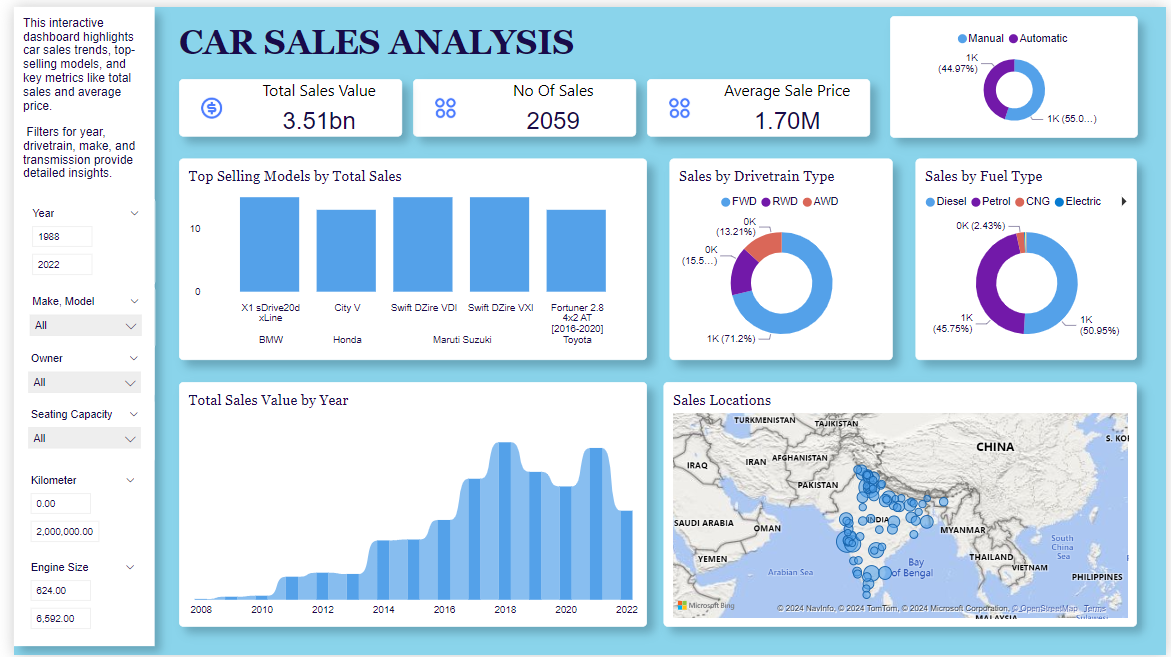

The page's visual inventory and layout, read from the dashboard file:
{"tool":"powerbi","page":{"name":"Page 1","canvas":[1280,720],"ordinal":0},"visuals":[{"type":"shape","box":[0,0,156.3,710],"z":0,"group":"g5"},{"type":"shape","box":[184,80,248,64],"z":0,"group":"g4"},{"type":"shape","box":[444,80,248,64],"z":0,"group":"g3"},{"type":"shape","box":[704,80,248,64],"z":0,"group":"g6"},{"type":"slicer","fields":{"Values":["car.Year"]},"box":[1.1,212,155.6,97.8],"z":0,"group":"g1"},{"type":"ribbonChart","title":"Total Sales Value by Year","fields":{"Category":["car.Year"],"Y":["Sum(car.Price)"]},"box":[184,416,520,272],"z":0},{"type":"slicer","fields":{"Values":["car.Kilometer"]},"box":[0,508.1,152.3,89.2],"z":0,"group":"g2"},{"type":"card","title":"Total Sales Value","fields":{"Values":["Sum(car.Price)"]},"box":[256,80,168,64],"z":1000,"group":"g4"},{"type":"card","title":"No Of Sales","fields":{"Values":["car.Total Rows"]},"box":[516,80,168,64],"z":1000,"group":"g3"},{"type":"card","title":"Average Sale Price","fields":{"Values":["Avg(car.Price)"]},"box":[776,80,168,64],"z":1000,"group":"g6"},{"type":"columnChart","title":"Top Selling Models by Total Sales","fields":{"Category":["car.Make","car.Model"],"Y":["car.Total Rows"]},"box":[184,168,520,224],"z":1000},{"type":"group","id":"g1","title":"Slicers","box":[0,212,156.7,294.7],"z":1000,"group":"g5"},{"type":"slicer","fields":{"Values":["car.Make","car.Model"]},"box":[1.1,310.9,155.6,70],"z":1000,"group":"g1"},{"type":"slicer","fields":{"Values":["car.Engine Size"]},"box":[0,604.7,152.2,100],"z":1000,"group":"g2"},{"type":"image","box":[192,88,56,48],"z":2000,"group":"g4"},{"type":"image","box":[452,88,56,48],"z":2000,"group":"g3"},{"type":"image","box":[712,88,56,48],"z":2000,"group":"g6"},{"type":"donutChart","title":"Sales by Drivetrain Type","fields":{"Category":["car.Drivetrain"],"Y":["car.Total Rows"]},"box":[728,168,248,224],"z":2000},{"type":"slicer","fields":{"Values":["car.Owner"]},"box":[0.4,374.1,156.3,61.6],"z":2000,"group":"g1"},{"type":"group","id":"g2","title":"Slicers","box":[0,508.1,152.3,196.6],"z":2000,"group":"g7"},{"type":"textbox","box":[10.3,10,136,202],"z":3000,"group":"g5"},{"type":"group","id":"g3","title":"Header 3","box":[444,80,240,66],"z":3000},{"type":"slicer","fields":{"Values":["car.Seating Capacity"]},"box":[0,434.7,156.3,72],"z":3000,"group":"g1"},{"type":"group","id":"g4","title":"Header 1","box":[184,80,248,64],"z":4000},{"type":"group","id":"g5","title":"Side Bar","box":[0,0,156.7,710],"z":5000},{"type":"textbox","box":[184,18,592,58],"z":6000},{"type":"group","id":"g6","title":"Header 3","box":[704,80,240,64],"z":7000},{"type":"donutChart","title":"Sales by Drivetrain Type","fields":{"Category":["car.Transmission"],"Y":["car.Total Rows"]},"box":[972.5,10,275,135],"z":8000},{"type":"map","title":"Sales Locations","fields":{"Category":["car.Location"],"Size":["car.Total Rows"]},"box":[722,416,526,272],"z":9000},{"type":"donutChart","title":"Sales by Fuel Type","fields":{"Category":["car.Fuel Type"],"Y":["car.Total Rows"]},"box":[1002,168,246,224],"z":10000},{"type":"group","id":"g7","title":"Side Bar","box":[0,508.1,152.3,196.6],"z":11000}]}

Visuals, with their boxes in screenshot pixels (x1, y1, x2, y2), scaled from the page's 1280x720 canvas onto the 1171x657 screenshot:
shape: bbox=(0, 0, 143, 648)
shape: bbox=(168, 73, 395, 131)
shape: bbox=(406, 73, 633, 131)
shape: bbox=(644, 73, 871, 131)
slicer - car.Year: bbox=(1, 193, 143, 283)
"Total Sales Value by Year" ribbonChart: bbox=(168, 380, 644, 628)
slicer - car.Kilometer: bbox=(0, 464, 139, 545)
"Total Sales Value" card: bbox=(234, 73, 388, 131)
"No Of Sales" card: bbox=(472, 73, 626, 131)
"Average Sale Price" card: bbox=(710, 73, 864, 131)
"Top Selling Models by Total Sales" columnChart: bbox=(168, 153, 644, 358)
"Slicers" group: bbox=(0, 193, 143, 462)
slicer - car.Make x car.Model: bbox=(1, 284, 143, 348)
slicer - car.Engine Size: bbox=(0, 552, 139, 643)
image: bbox=(176, 80, 227, 124)
image: bbox=(414, 80, 465, 124)
image: bbox=(651, 80, 703, 124)
"Sales by Drivetrain Type" donutChart: bbox=(666, 153, 893, 358)
slicer - car.Owner: bbox=(0, 341, 143, 398)
"Slicers" group: bbox=(0, 464, 139, 643)
textbox: bbox=(9, 9, 134, 193)
"Header 3" group: bbox=(406, 73, 626, 133)
slicer - car.Seating Capacity: bbox=(0, 397, 143, 462)
"Header 1" group: bbox=(168, 73, 395, 131)
"Side Bar" group: bbox=(0, 0, 143, 648)
textbox: bbox=(168, 16, 710, 69)
"Header 3" group: bbox=(644, 73, 864, 131)
"Sales by Drivetrain Type" donutChart: bbox=(890, 9, 1141, 132)
"Sales Locations" map: bbox=(661, 380, 1142, 628)
"Sales by Fuel Type" donutChart: bbox=(917, 153, 1142, 358)
"Side Bar" group: bbox=(0, 464, 139, 643)
